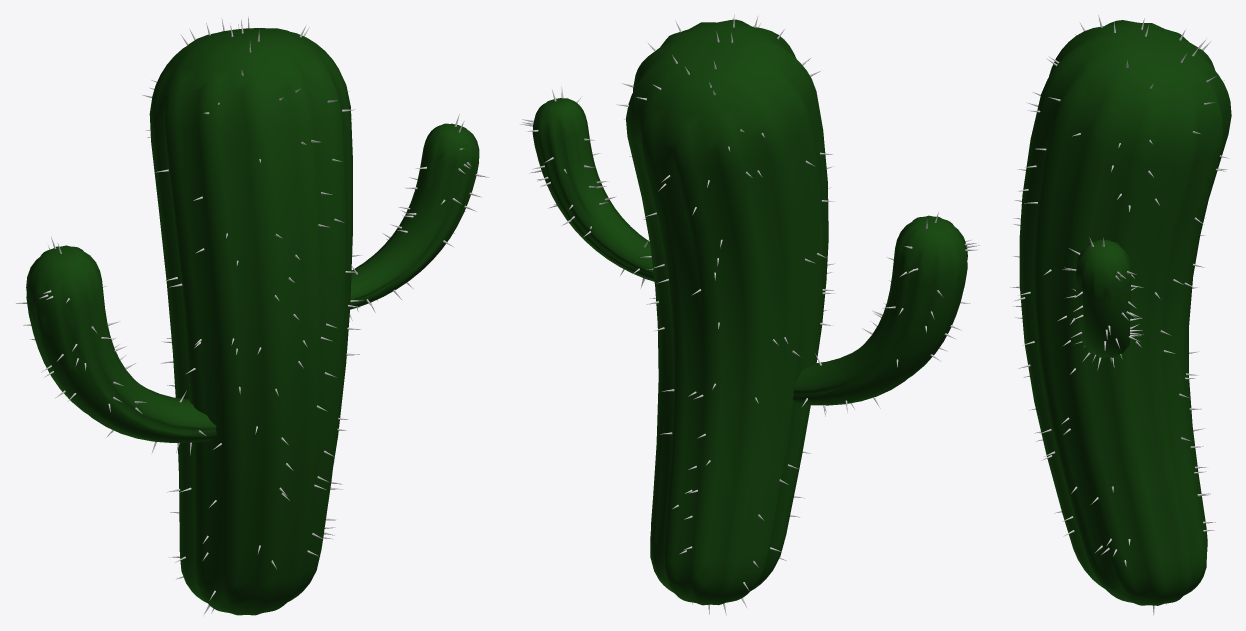
Rendered from arbore3.obj.
3 views of the same model, side by side, from view 1: azimuth 30°, elevation 25°; view 2: azimuth 150°, elevation 25°; view 3: azimuth 270°, elevation 25° (orthographic). The views are drawn at different scales.
Visible parts, largest first — view 1: Círculo, Círculo.001, Círculo.002, Cono; view 2: Círculo, Círculo.001, Círculo.002, Cono; view 3: Círculo, Círculo.002, Cono.
Part boxes in pixels (x1,y1,x2,y2): Círculo: (149, 28, 352, 615); Círculo.001: (26, 245, 217, 442); Círculo.002: (350, 123, 479, 309); Cono: (16, 16, 489, 615); Círculo: (626, 19, 828, 605); Círculo.001: (793, 215, 967, 405); Círculo.002: (532, 98, 654, 281); Cono: (520, 14, 979, 615); Círculo: (1019, 20, 1231, 605); Círculo.002: (1075, 239, 1131, 357); Cono: (1010, 15, 1229, 615).
Bounding box in the file's own units: 1.69 × 2.15 × 0.737.
